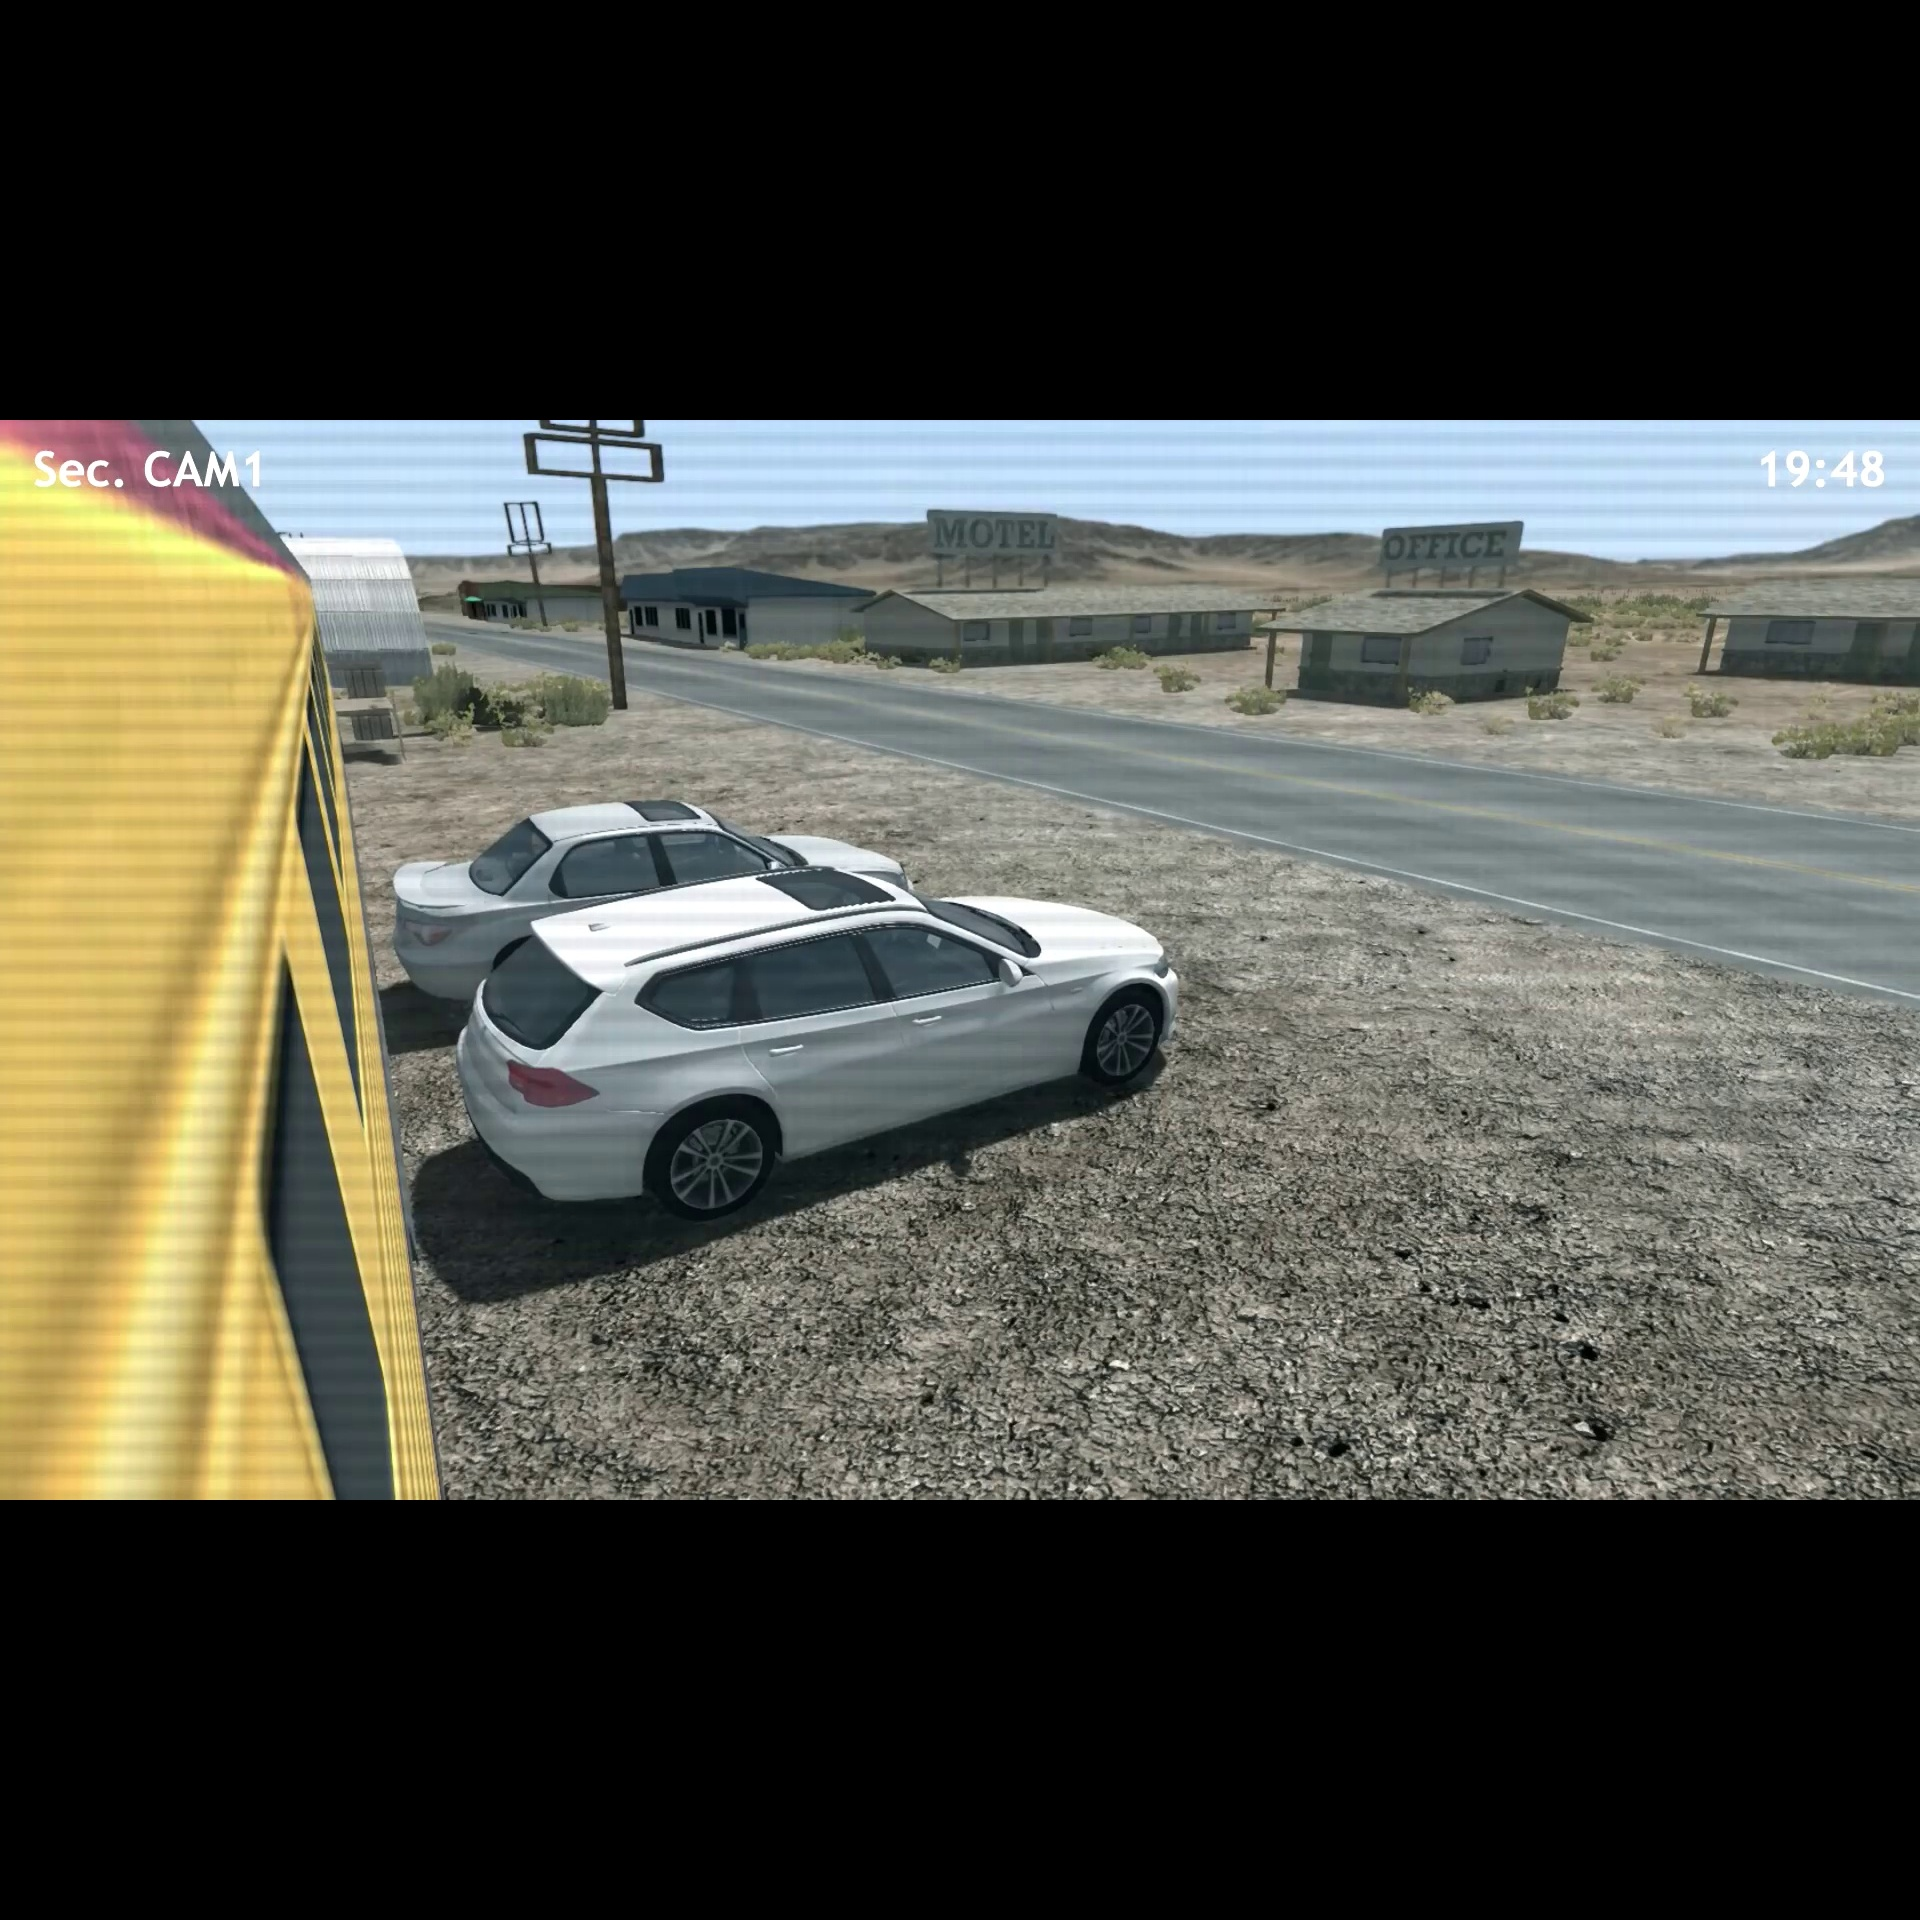vehicle: (454, 863, 1196, 1224), (389, 791, 911, 948)
